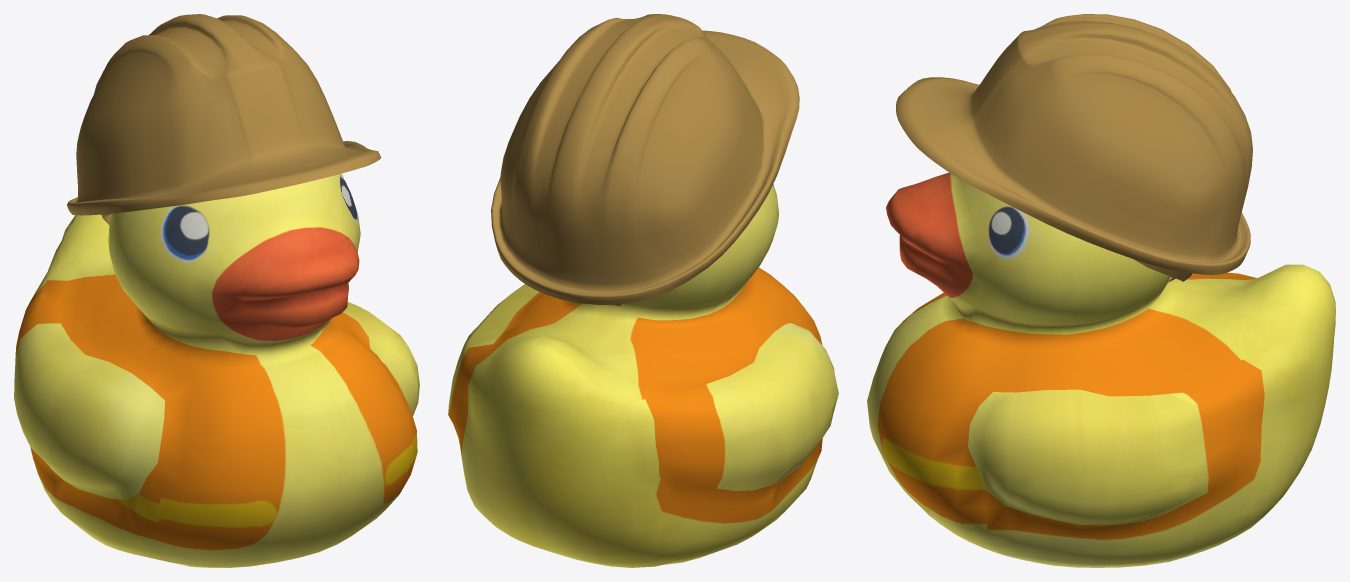
Rendered from Construction_Ducky.fbx.
3 renders of one model, left to right at view 1: azimuth 30°, elevation 25°; view 2: azimuth 150°, elevation 25°; view 3: azimuth 270°, elevation 25°, orthographic. The views are drawn at different scales.
Visible parts, largest first — view 1: Ducky_construction, helmet; view 2: Ducky_construction, helmet; view 3: Ducky_construction, helmet.
Boxes of the visible parts, x1=… form: Ducky_construction: x1=14, y1=173, x2=419, y2=567; helmet: x1=67, y1=14, x2=381, y2=215; Ducky_construction: x1=448, y1=184, x2=838, y2=567; helmet: x1=491, y1=14, x2=799, y2=304; Ducky_construction: x1=867, y1=172, x2=1335, y2=567; helmet: x1=896, y1=14, x2=1252, y2=274.
Bounding box in the file's own units: 53.94 × 73.37 × 63.81.
2 materials, 1 textured.
